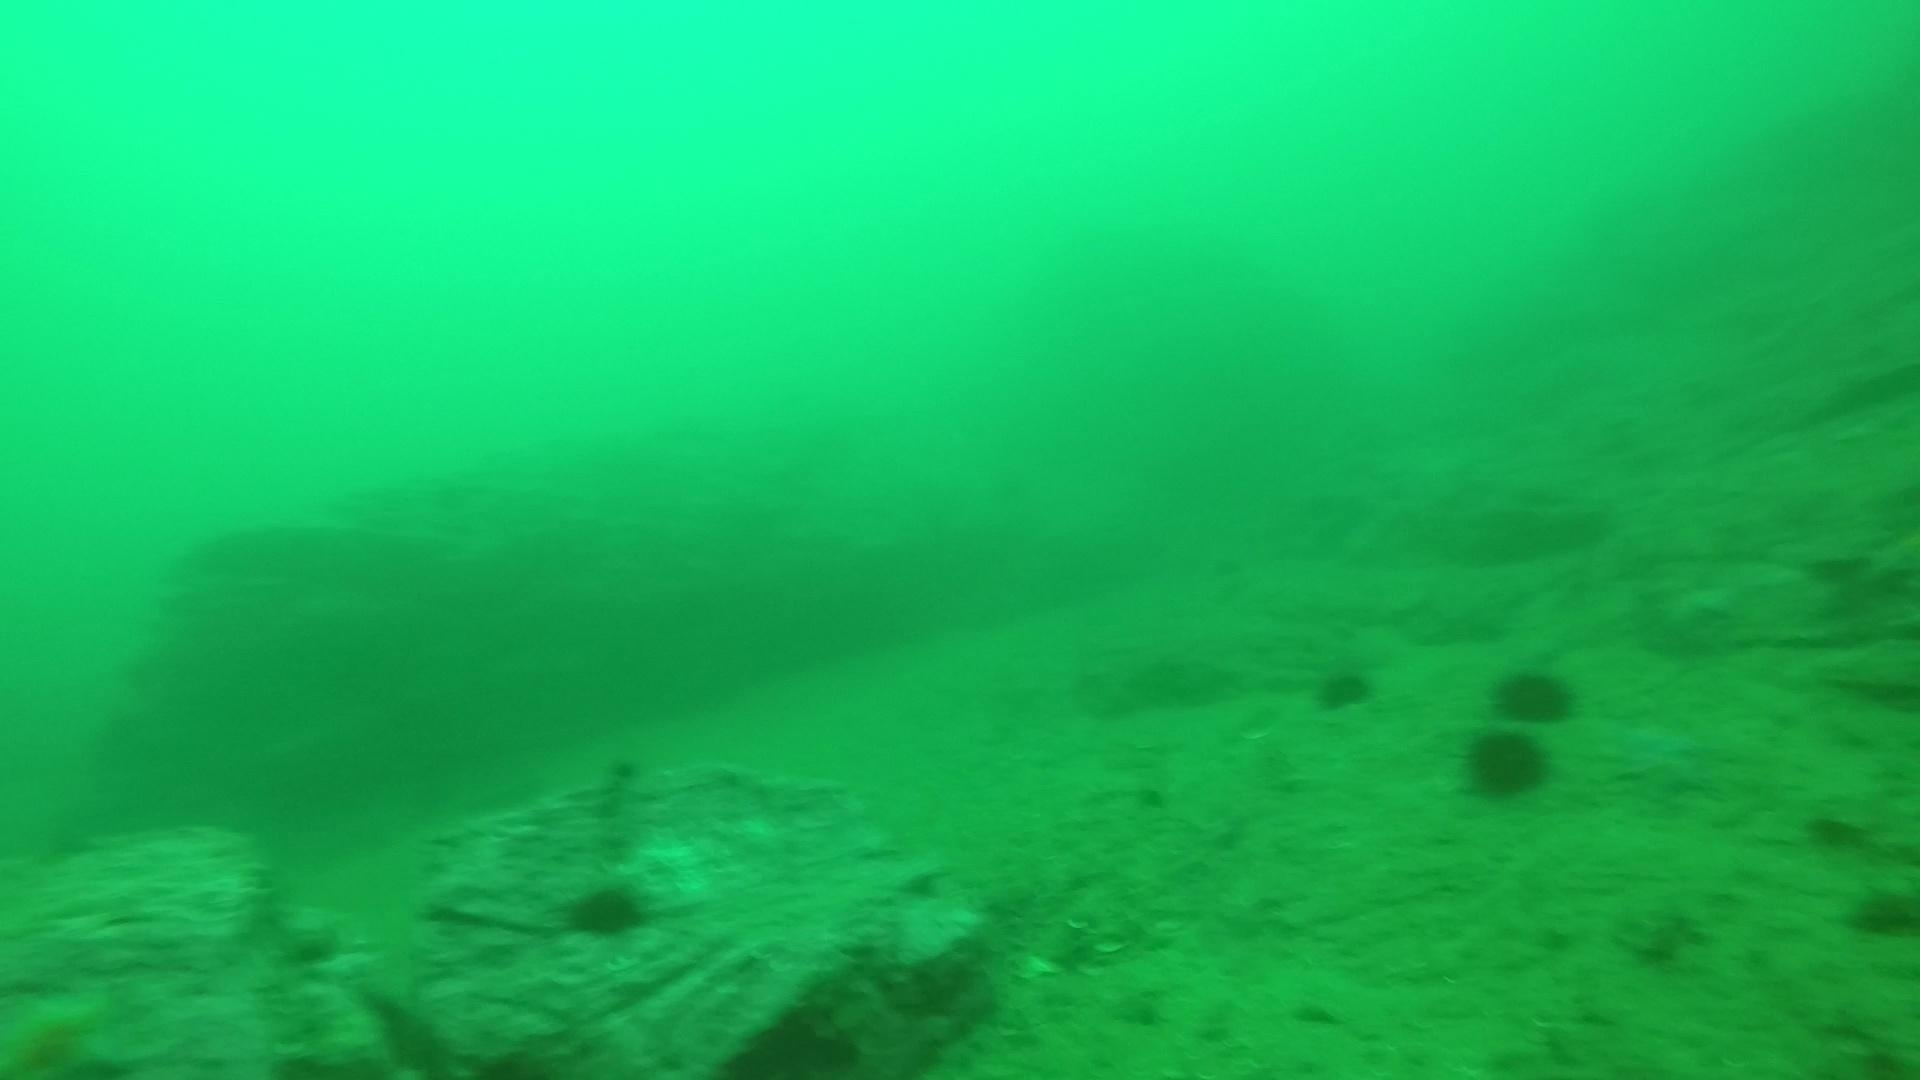echinus: (1457, 723, 1555, 804), (1486, 657, 1581, 729), (559, 873, 654, 945), (1307, 655, 1379, 717)
starfish: (1, 981, 137, 1076), (1604, 713, 1721, 803)
